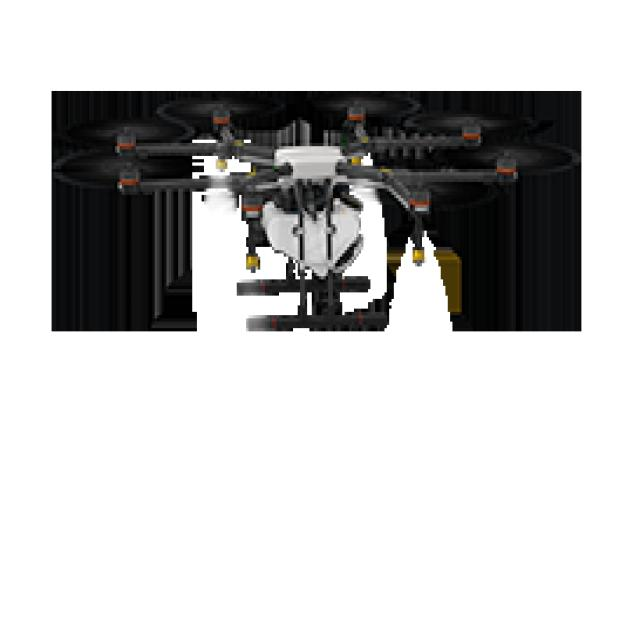drone: (66, 78, 548, 352)
